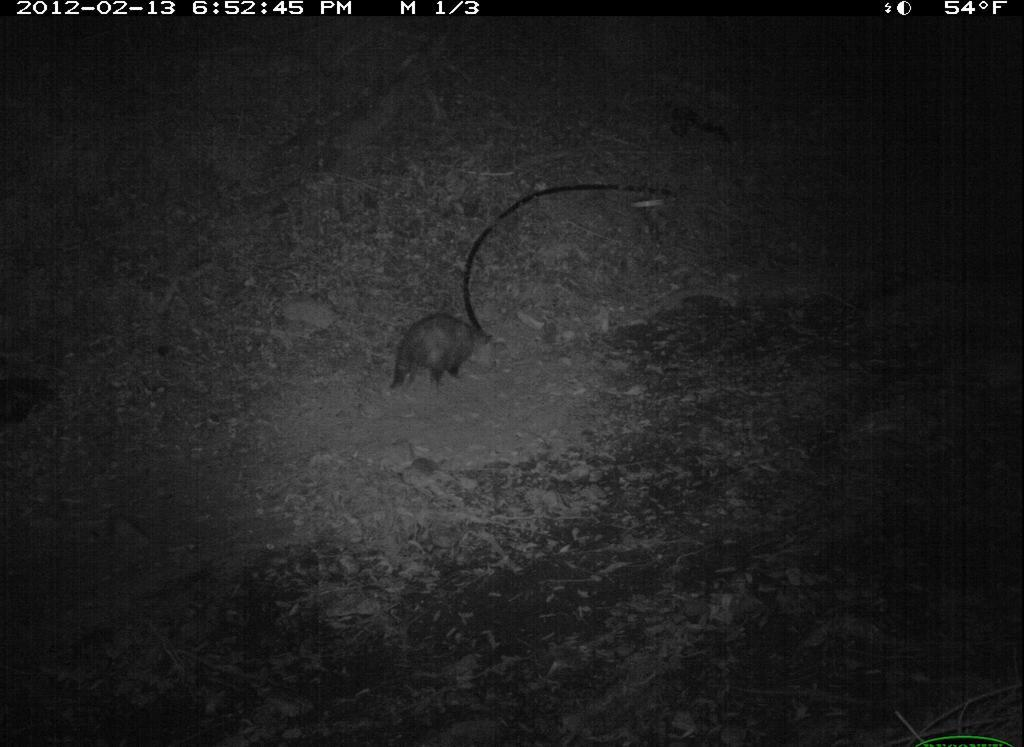opossum: (385, 308, 495, 400)
